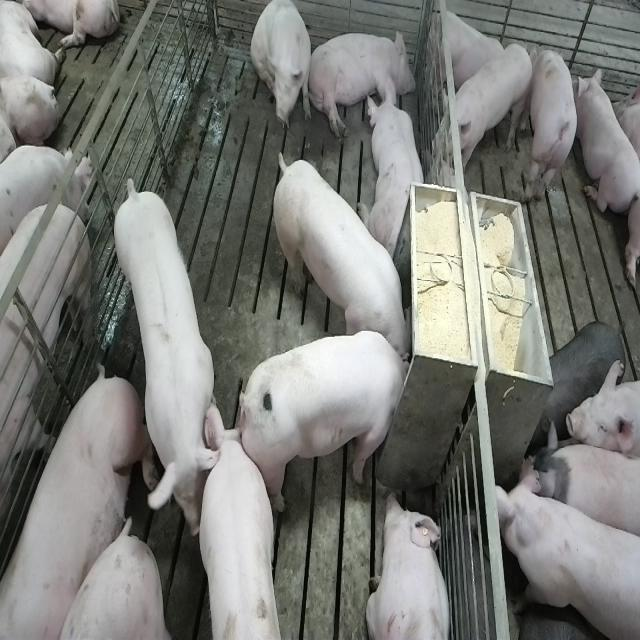Feeding: (243, 329, 420, 510), (268, 145, 411, 360)
Lateral_lying: (4, 364, 152, 640), (306, 27, 417, 138)
Sitting: (251, 1, 313, 138)
Standing: (0, 195, 93, 640), (111, 180, 225, 526), (496, 458, 639, 640), (182, 425, 280, 640), (528, 418, 637, 548), (438, 48, 536, 173), (525, 41, 580, 211), (539, 320, 624, 429)
Sternal_lying: (365, 490, 453, 640), (367, 77, 430, 258), (576, 62, 638, 216), (428, 4, 508, 95)
